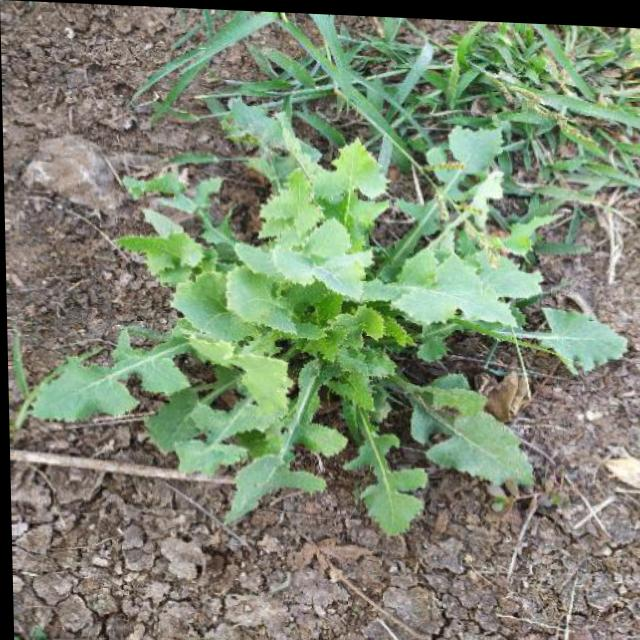weed: (31, 46, 629, 593)
